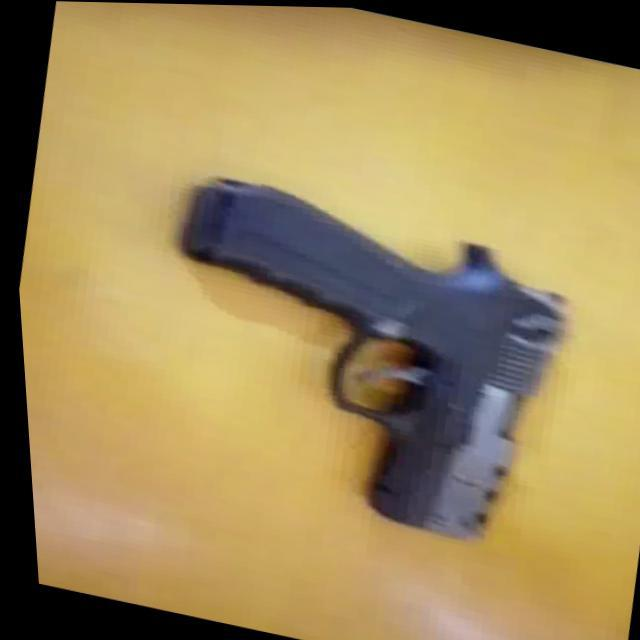weapon: (126, 165, 593, 554)
